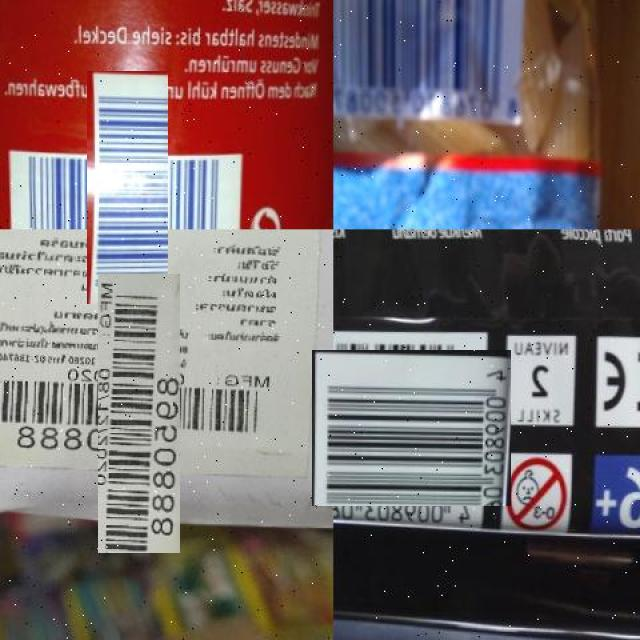Barcode: (49, 323, 230, 504), (322, 339, 500, 517), (49, 109, 206, 267), (334, 0, 535, 117)
